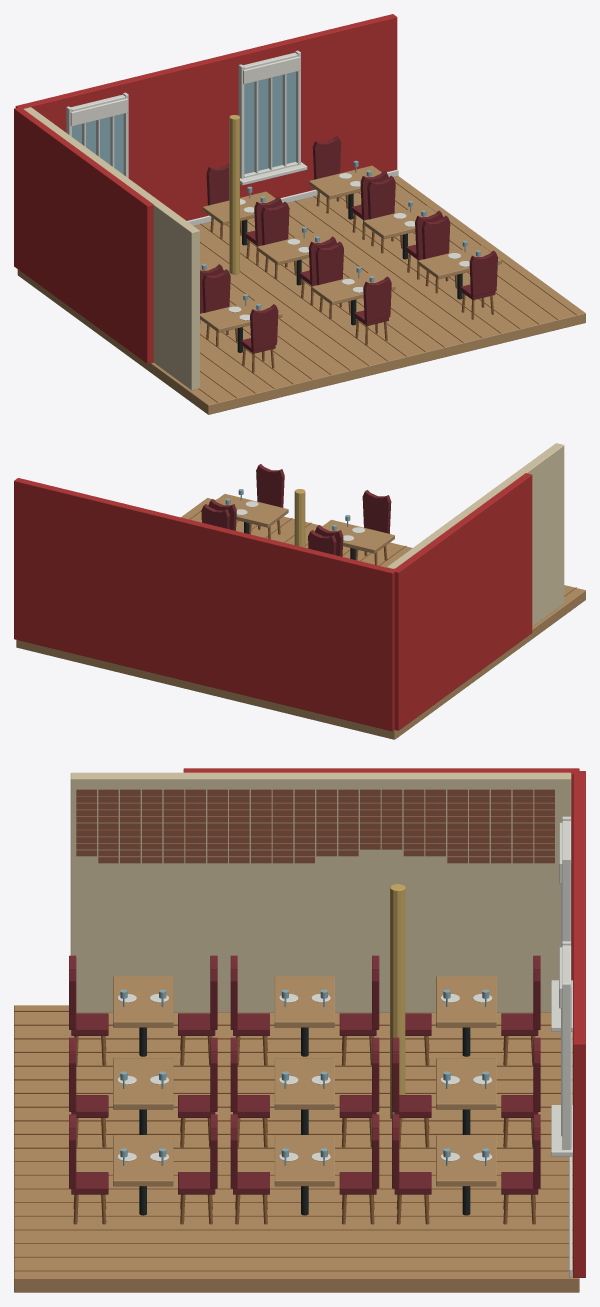
The model's file is 49l-interior.glb.
3 views of the same model, one above another, from view 1: azimuth 30°, elevation 25°; view 2: azimuth 150°, elevation 25°; view 3: azimuth 270°, elevation 25° (orthographic). The views are drawn at different scales.
Parts seen in each view (by area): view 1: 49L_INTERIOR; view 2: 49L_INTERIOR; view 3: 49L_INTERIOR.
Part boxes in pixels (box(x1,y1,x2,y2)): 49L_INTERIOR: box(14, 14, 585, 414); 49L_INTERIOR: box(14, 443, 585, 739); 49L_INTERIOR: box(14, 768, 585, 1292).
Size of the model in its own units: 8.08 by 3.4 by 7.08.
